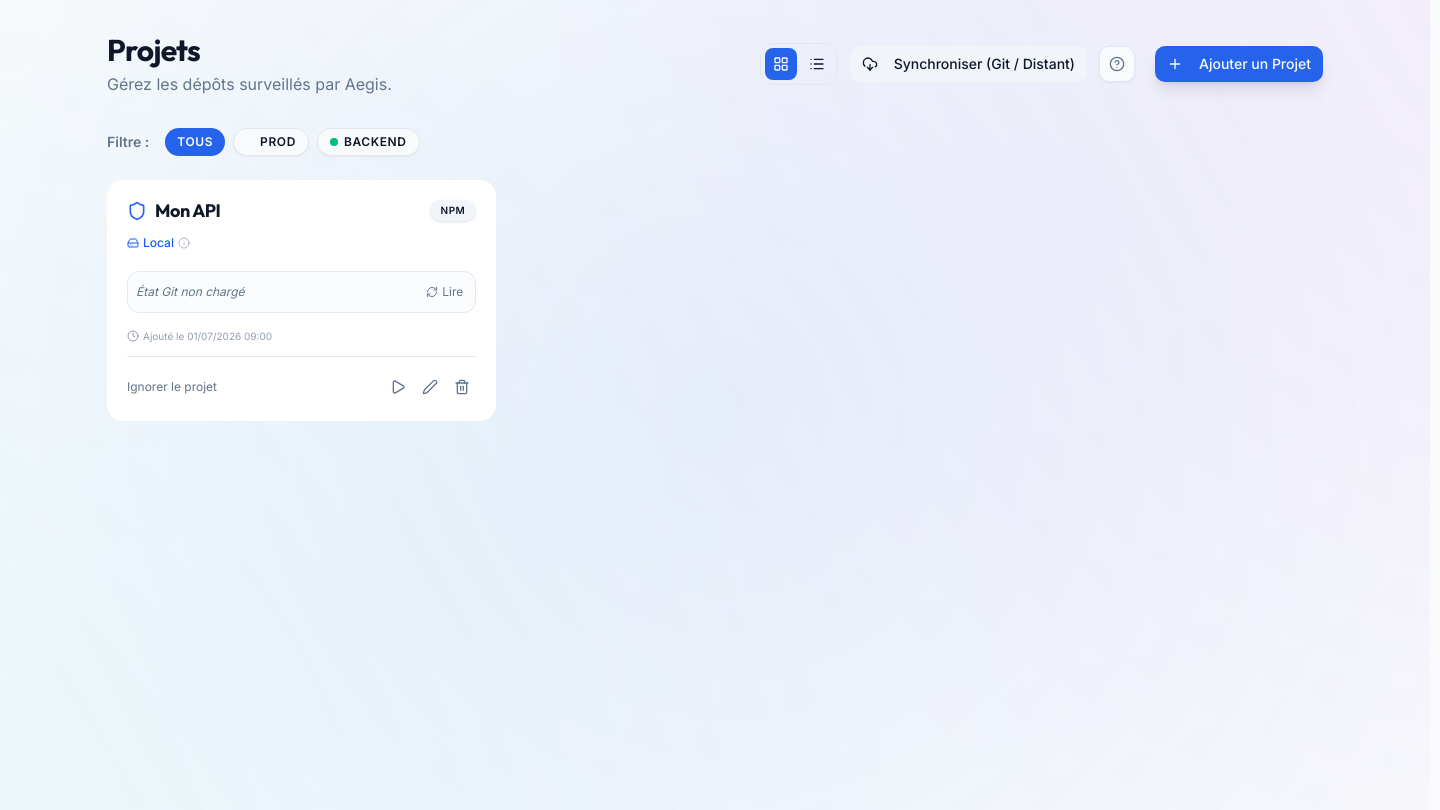
Projects › un état git non chargé n'empêche pas la synchronisation
Check: the heading "Mon API" is shown, box [155, 200, 220, 222]
Click the button "Synchroniser (Git / Distant)". click: click(968, 64)
box: [850, 46, 1087, 82]
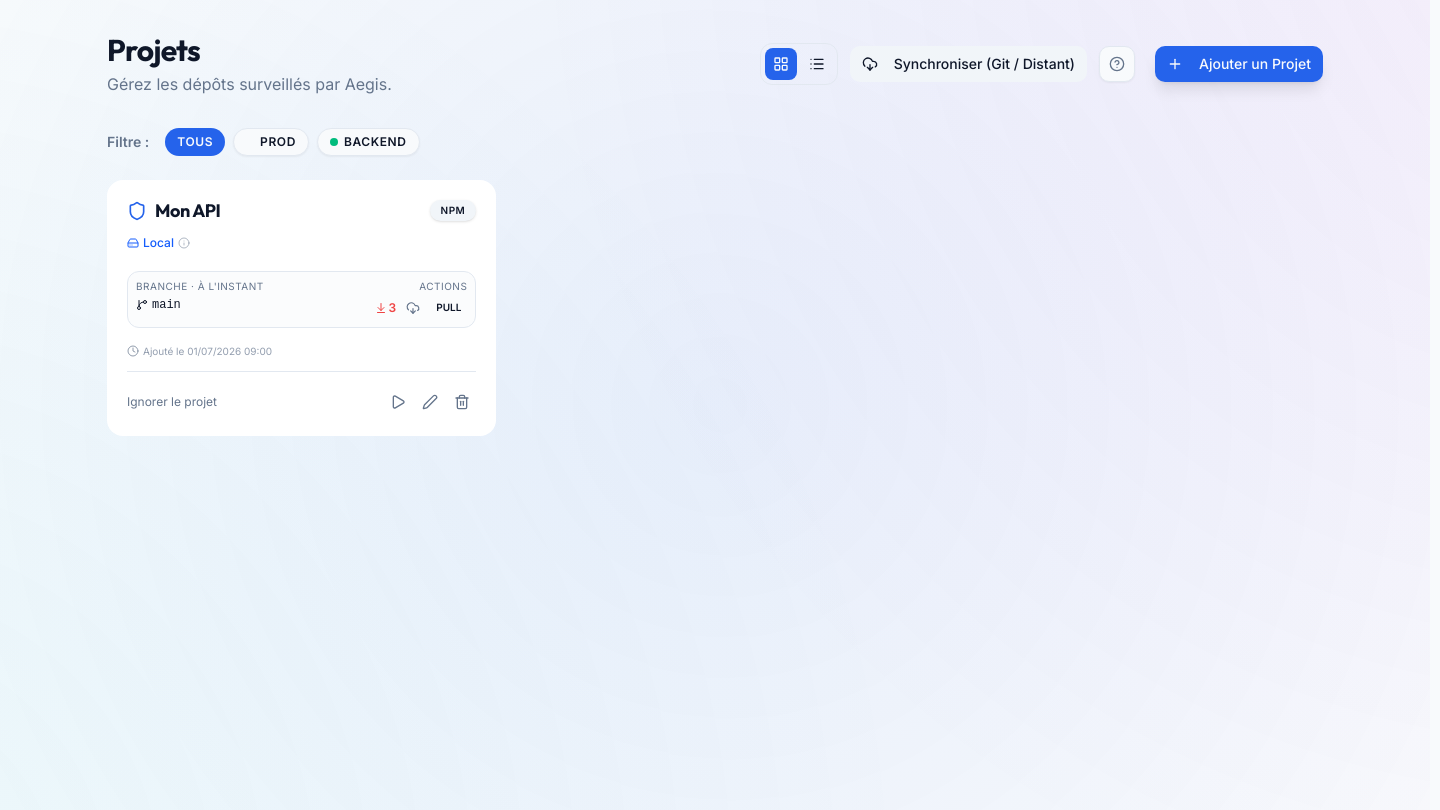
Check: the text "main" is shown, box [152, 297, 181, 313]
